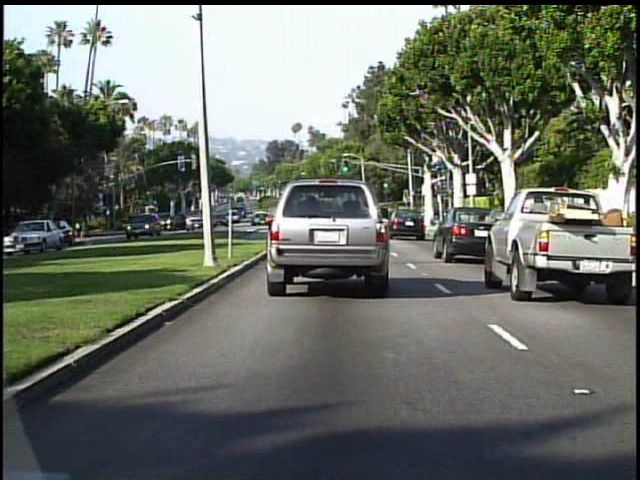person: (77, 218, 82, 239)
